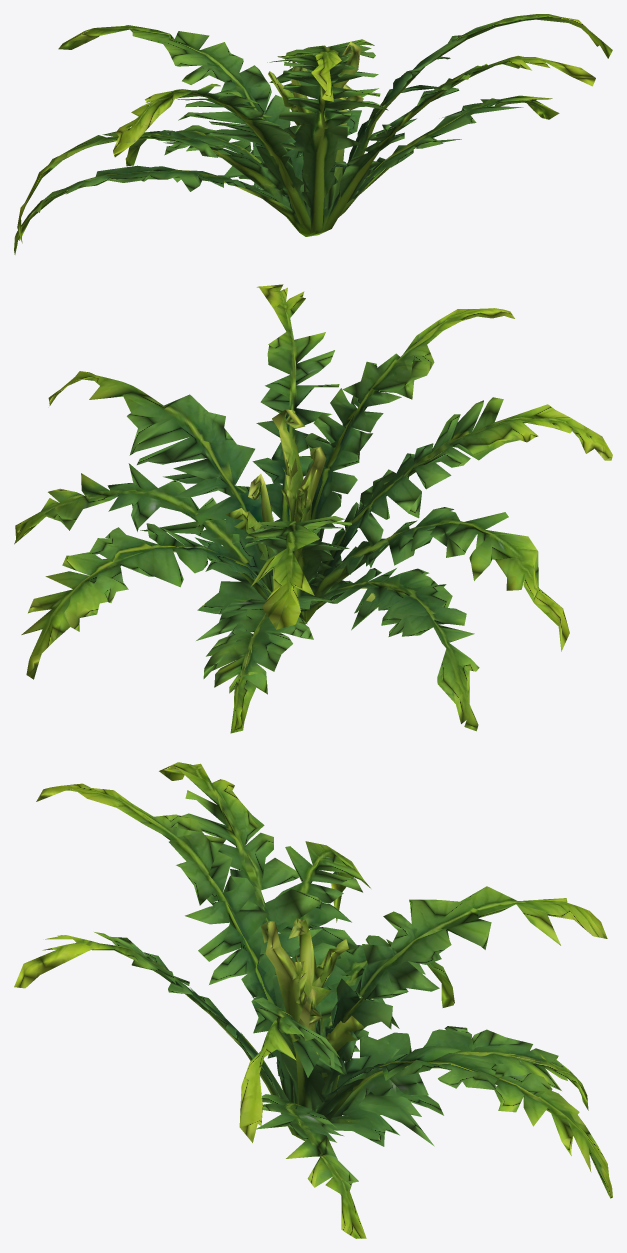
File: env-fern.glb
3 renders of one model, top to bottom at view 1: azimuth 30°, elevation 25°; view 2: azimuth 150°, elevation 25°; view 3: azimuth 270°, elevation 25°, orthographic. The views are drawn at different scales.
Visible parts, largest first — view 1: tripo_node_e6b1344e-bb33-4514-b911-d857c76b7633; view 2: tripo_node_e6b1344e-bb33-4514-b911-d857c76b7633; view 3: tripo_node_e6b1344e-bb33-4514-b911-d857c76b7633.
Boxes of the visible parts, x1=… form: tripo_node_e6b1344e-bb33-4514-b911-d857c76b7633: x1=14, y1=14, x2=612, y2=254; tripo_node_e6b1344e-bb33-4514-b911-d857c76b7633: x1=14, y1=284, x2=612, y2=733; tripo_node_e6b1344e-bb33-4514-b911-d857c76b7633: x1=14, y1=762, x2=612, y2=1238.
Bounding box in the file's own units: 0.9888 × 0.4538 × 0.7988.
1 material, 1 textured.
